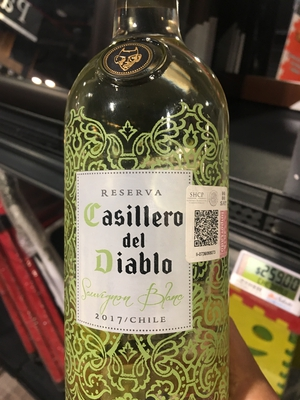casillero del diablo sauvignon blanc: (59, 18, 230, 400)
